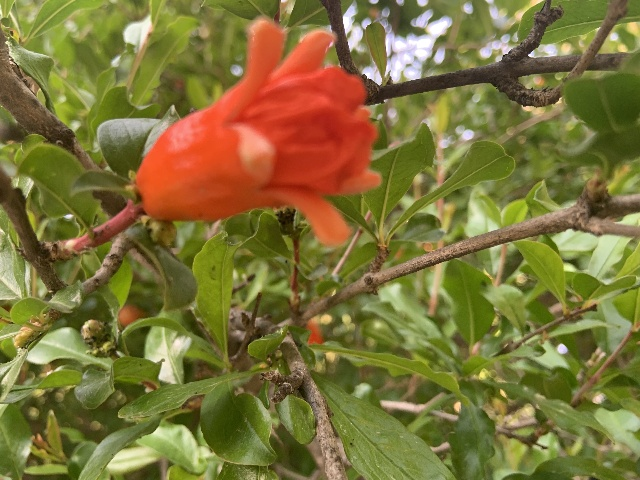flower: (137, 15, 382, 245)
